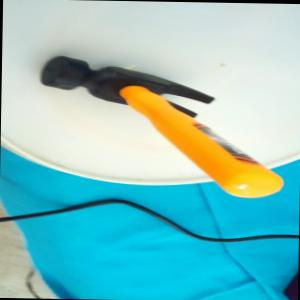martelo: (38, 51, 290, 199)
